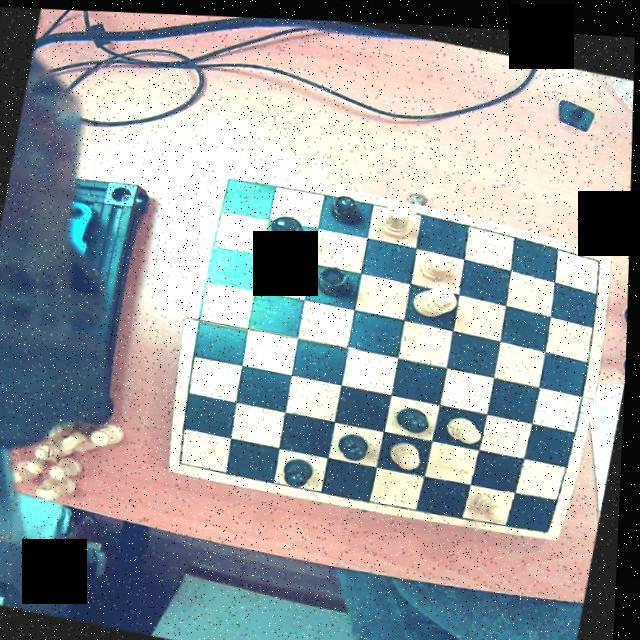chess-table-corners: (218, 166, 246, 191), (171, 444, 198, 469), (534, 512, 564, 532), (588, 245, 614, 268)
